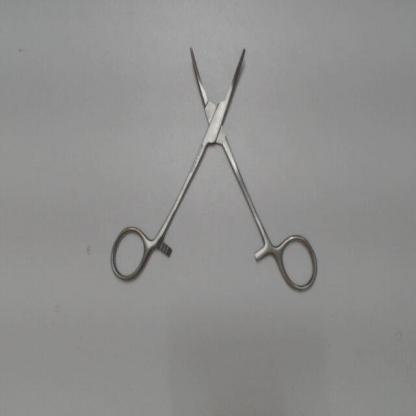Crile Artery Forceps: (104, 39, 320, 298)
